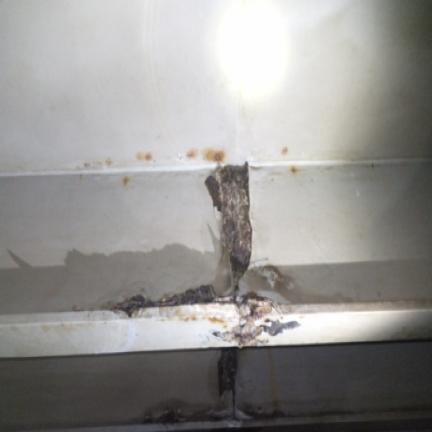besi_tidak_karat: (0, 0, 431, 173), (0, 168, 236, 357)
karat: (205, 163, 252, 293)
